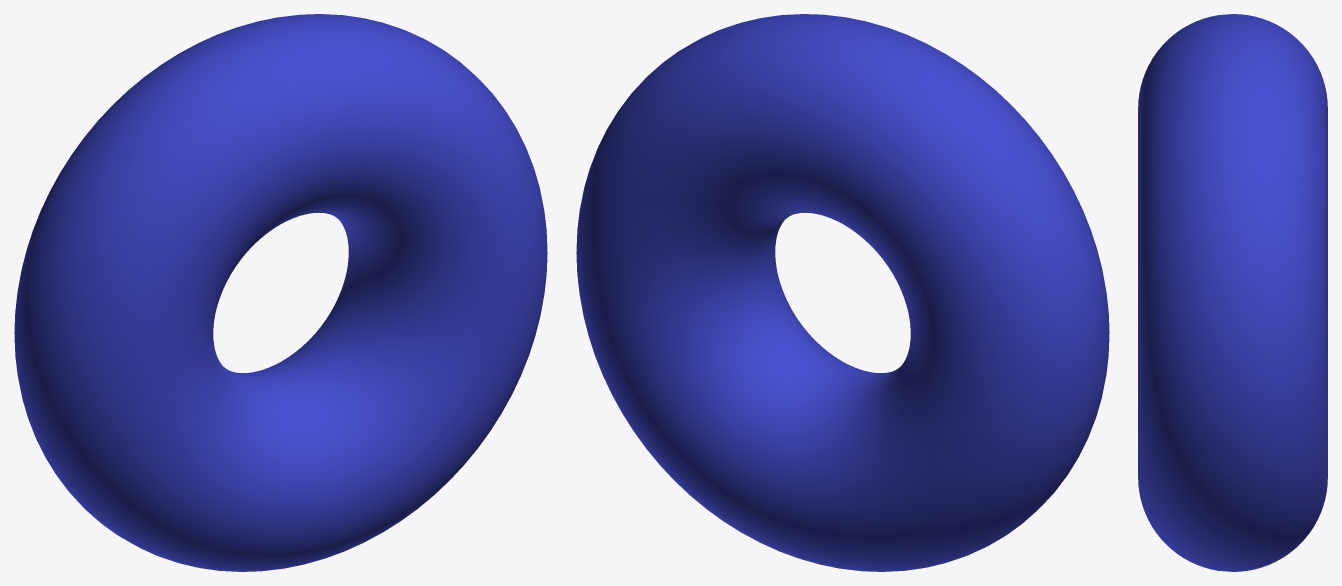
Rendered from Donut.fbx.
3 views of the same model, side by side, from view 1: azimuth 30°, elevation 25°; view 2: azimuth 150°, elevation 25°; view 3: azimuth 270°, elevation 25° (orthographic). The views are drawn at different scales.
Visible parts, largest first — view 1: root; view 2: root; view 3: root.
Boxes of the visible parts, left/top/right/bottom form: root: left=14, top=14, right=547, bottom=571; root: left=576, top=14, right=1109, bottom=571; root: left=1138, top=14, right=1327, bottom=571.
Size of the model in its own units: 34.46 by 34.46 by 11.72.
